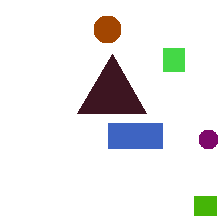circle: (94, 16, 120, 42), (199, 130, 217, 148)
rectangle: (108, 123, 162, 148), (163, 48, 184, 71), (194, 196, 216, 215)
triangle: (77, 54, 146, 113)
